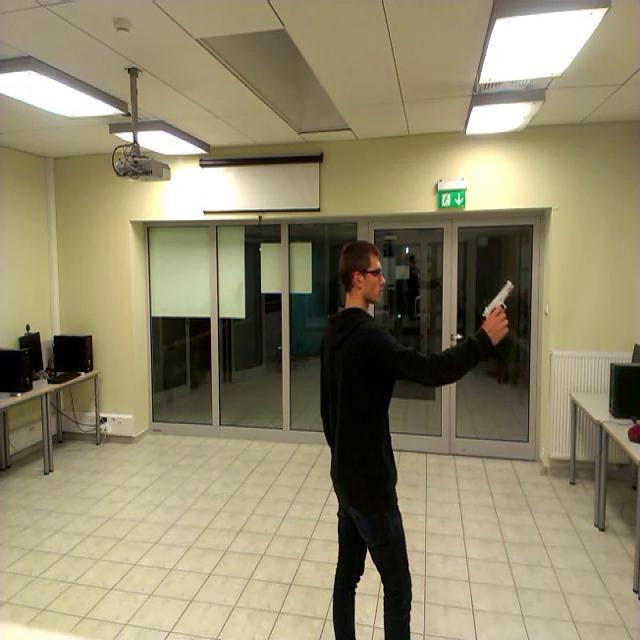Gun: (481, 279, 513, 329)
